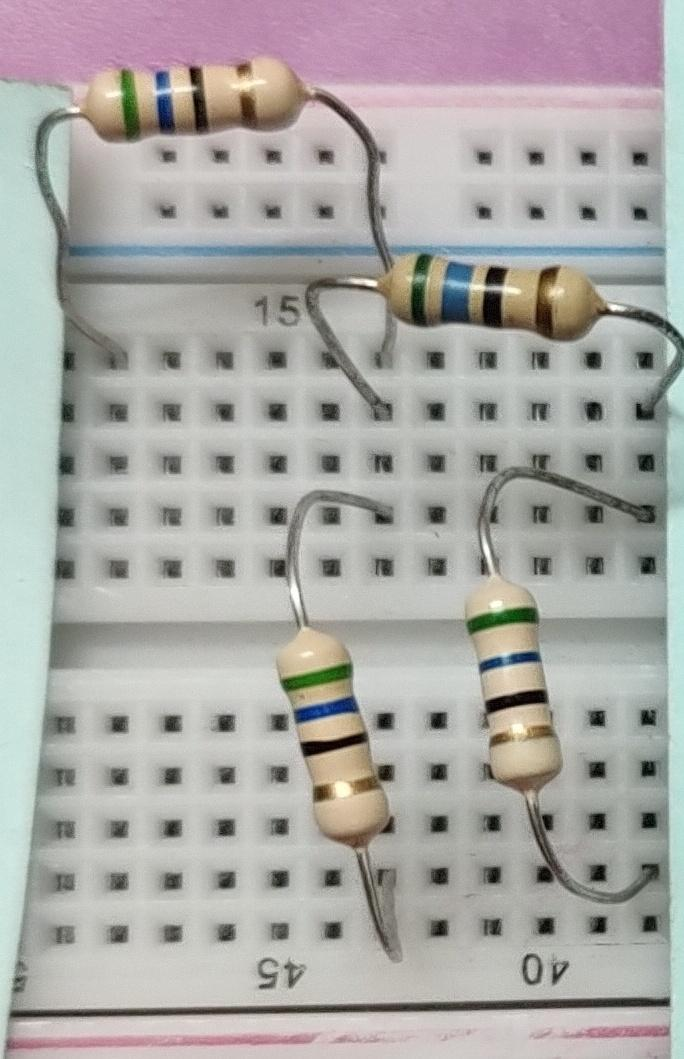resistor: (259, 621, 405, 859), (75, 39, 331, 153), (455, 571, 577, 792), (367, 241, 617, 346)
